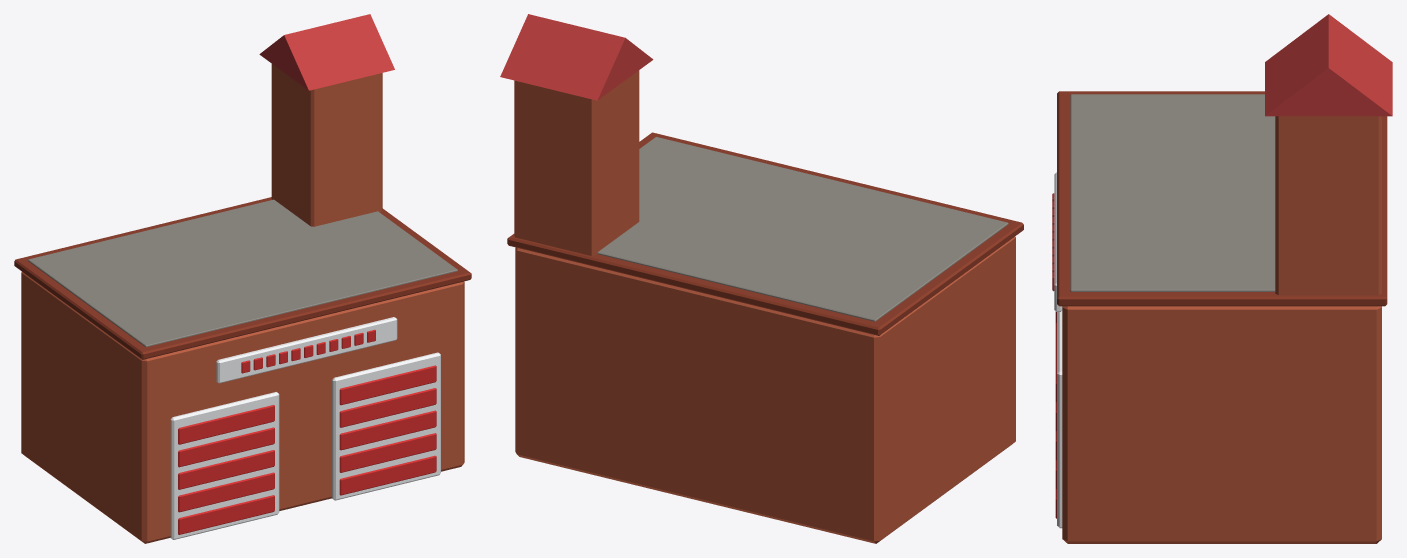
The model's file is FireStation.fbx.
3 views of the same model, side by side, from view 1: azimuth 30°, elevation 25°; view 2: azimuth 150°, elevation 25°; view 3: azimuth 270°, elevation 25° (orthographic). The views are drawn at different scales.
Parts seen in each view (by area): view 1: FireStation; view 2: FireStation; view 3: FireStation.
Boxes of the visible parts, <box> form: FireStation: <box>14,14,471,543</box>; FireStation: <box>500,14,1023,543</box>; FireStation: <box>1052,14,1392,543</box>.
Bounding box in the file's own units: 18.6 × 20 × 12.78.
Materials: 1 (1 with a texture image).
